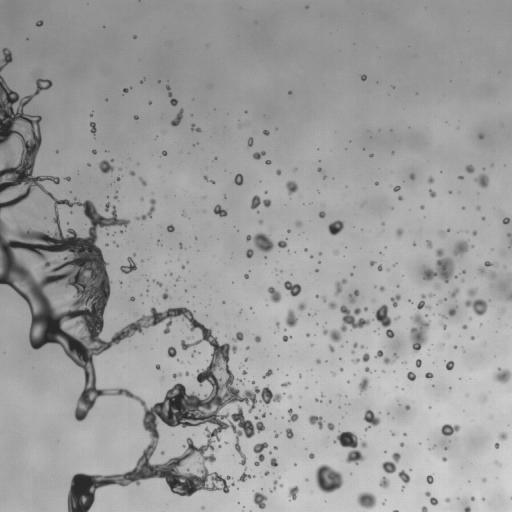droplet: (423, 248, 455, 282), (334, 431, 366, 464), (315, 464, 343, 493), (465, 288, 487, 315), (246, 233, 273, 252), (382, 452, 401, 473), (364, 408, 380, 430), (253, 442, 267, 466), (477, 261, 495, 278), (357, 492, 376, 508), (250, 195, 271, 209), (493, 368, 511, 383), (120, 257, 136, 273), (284, 281, 301, 296), (441, 424, 460, 436), (398, 470, 410, 489), (328, 220, 343, 235), (253, 492, 267, 508), (285, 309, 297, 327), (99, 159, 114, 173), (268, 286, 281, 302), (475, 174, 489, 188), (454, 240, 468, 254), (417, 294, 430, 309), (308, 415, 323, 428), (213, 204, 227, 217), (358, 377, 369, 393), (286, 181, 298, 194), (349, 289, 359, 303), (288, 485, 298, 499), (270, 480, 282, 491), (390, 294, 400, 307), (288, 409, 298, 422), (232, 332, 244, 342), (166, 346, 176, 357), (379, 477, 389, 488), (234, 173, 243, 185), (253, 151, 265, 159), (191, 123, 200, 132), (406, 371, 415, 380), (465, 165, 474, 173), (451, 288, 459, 297), (446, 361, 454, 370), (498, 432, 507, 440), (286, 428, 293, 438), (328, 301, 336, 309), (396, 228, 403, 237), (277, 240, 286, 247), (246, 249, 253, 258), (162, 290, 169, 299), (270, 458, 277, 467), (426, 475, 433, 484), (172, 372, 182, 378), (167, 224, 174, 232), (448, 308, 455, 316), (327, 422, 334, 430), (282, 335, 291, 341), (281, 381, 290, 387), (139, 178, 146, 185), (318, 211, 325, 218), (502, 217, 509, 224), (298, 303, 305, 310), (254, 335, 261, 342), (426, 240, 432, 248), (425, 372, 433, 378), (248, 137, 253, 146), (36, 20, 43, 26), (429, 190, 435, 197), (440, 322, 446, 329), (328, 345, 334, 352), (416, 359, 421, 367), (428, 176, 433, 183), (393, 186, 400, 191), (263, 130, 269, 135), (410, 173, 415, 179), (295, 221, 301, 226), (421, 506, 427, 511), (464, 506, 470, 511), (361, 75, 366, 80), (276, 169, 281, 174), (377, 265, 382, 270), (155, 364, 160, 369), (365, 367, 370, 372), (494, 443, 499, 448), (309, 453, 314, 458), (445, 497, 450, 502), (123, 88, 129, 92), (265, 160, 271, 164), (114, 193, 118, 199), (439, 231, 445, 235), (478, 134, 483, 138), (92, 149, 96, 154), (162, 150, 166, 155), (65, 177, 70, 181), (398, 195, 402, 200), (334, 250, 338, 255), (370, 261, 375, 265), (380, 286, 384, 291), (428, 293, 433, 297), (322, 296, 326, 301), (353, 343, 357, 348), (405, 405, 410, 409), (276, 321, 279, 327), (184, 372, 190, 375), (134, 115, 138, 119), (317, 167, 321, 171), (130, 171, 134, 175), (472, 231, 476, 235), (244, 274, 248, 278), (435, 284, 439, 288), (437, 300, 441, 304), (462, 325, 466, 329), (316, 359, 320, 363), (242, 370, 246, 374), (400, 442, 404, 446), (442, 457, 446, 461), (470, 496, 474, 500), (182, 211, 185, 216), (179, 243, 182, 248), (116, 177, 120, 180), (458, 176, 462, 179), (476, 206, 480, 209), (259, 220, 262, 224), (130, 297, 134, 300), (395, 316, 399, 319), (331, 372, 335, 375), (251, 380, 254, 384), (288, 395, 292, 398), (262, 413, 265, 417), (275, 433, 278, 437), (495, 461, 499, 464), (265, 471, 268, 475), (482, 478, 486, 481), (133, 35, 136, 38), (288, 91, 291, 94), (148, 101, 151, 104), (323, 175, 326, 178), (375, 182, 378, 185), (420, 205, 423, 208), (482, 217, 485, 220), (181, 265, 184, 268), (315, 269, 318, 272), (176, 277, 179, 280), (306, 333, 309, 336), (471, 336, 474, 339), (360, 345, 363, 348), (351, 350, 354, 353), (340, 368, 343, 371), (391, 432, 394, 435), (274, 446, 277, 449), (161, 451, 164, 454), (382, 502, 385, 505), (315, 399, 319, 401), (264, 191, 267, 193), (449, 190, 451, 193), (462, 206, 464, 209), (287, 230, 290, 232), (462, 270, 465, 272), (350, 273, 353, 275), (315, 295, 318, 297), (239, 310, 241, 313), (454, 345, 456, 348), (244, 358, 247, 360), (402, 361, 405, 363), (403, 433, 406, 435), (444, 447, 447, 449), (306, 478, 308, 481), (482, 497, 484, 500), (141, 80, 143, 82), (370, 154, 372, 156), (214, 157, 216, 159), (140, 198, 142, 200), (447, 229, 449, 231), (319, 253, 321, 255), (310, 255, 312, 257), (170, 273, 172, 275), (187, 336, 189, 338), (246, 347, 248, 349), (179, 360, 181, 362), (240, 365, 242, 367), (484, 397, 486, 399), (218, 445, 220, 447)
ligament: (0, 76, 281, 511), (322, 304, 394, 342), (409, 313, 429, 353), (137, 198, 155, 220), (375, 350, 397, 363), (0, 48, 12, 71), (166, 86, 177, 106), (171, 109, 183, 126), (335, 279, 346, 295), (352, 353, 369, 363), (425, 492, 438, 505), (263, 369, 272, 378), (90, 122, 96, 134), (204, 176, 214, 183), (154, 280, 161, 286), (507, 233, 511, 243), (238, 378, 243, 383), (508, 293, 511, 300), (191, 351, 195, 356), (393, 510, 398, 511)
